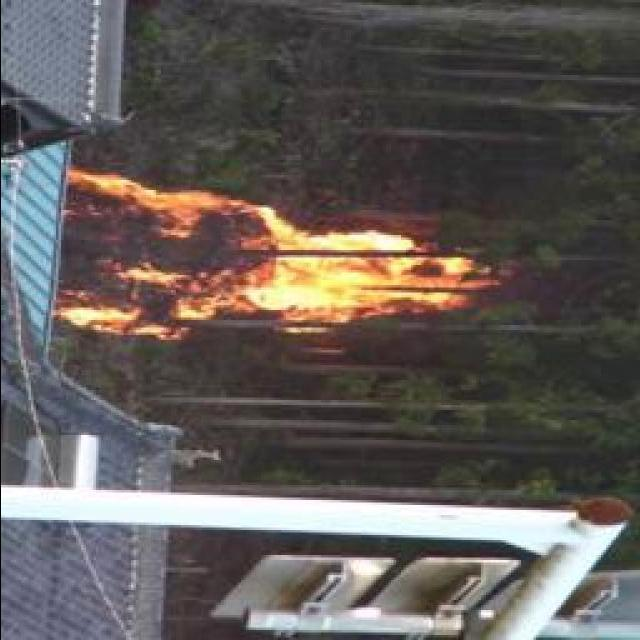Fire: (51, 171, 486, 335)
